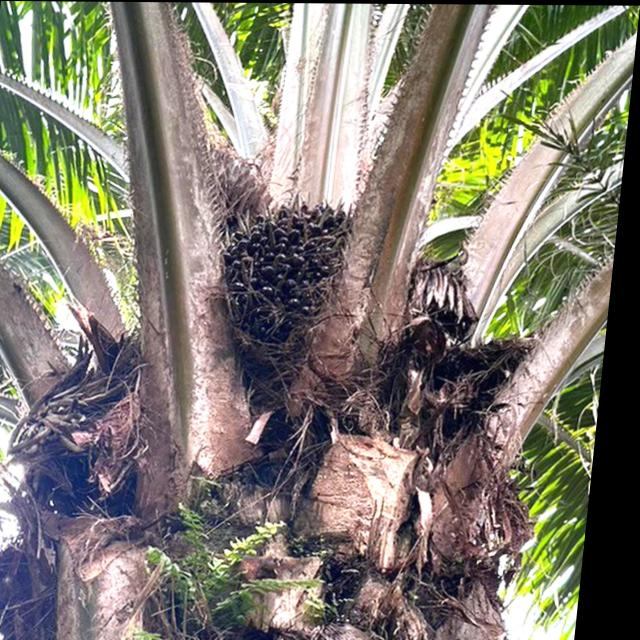almost: (216, 191, 359, 356)
